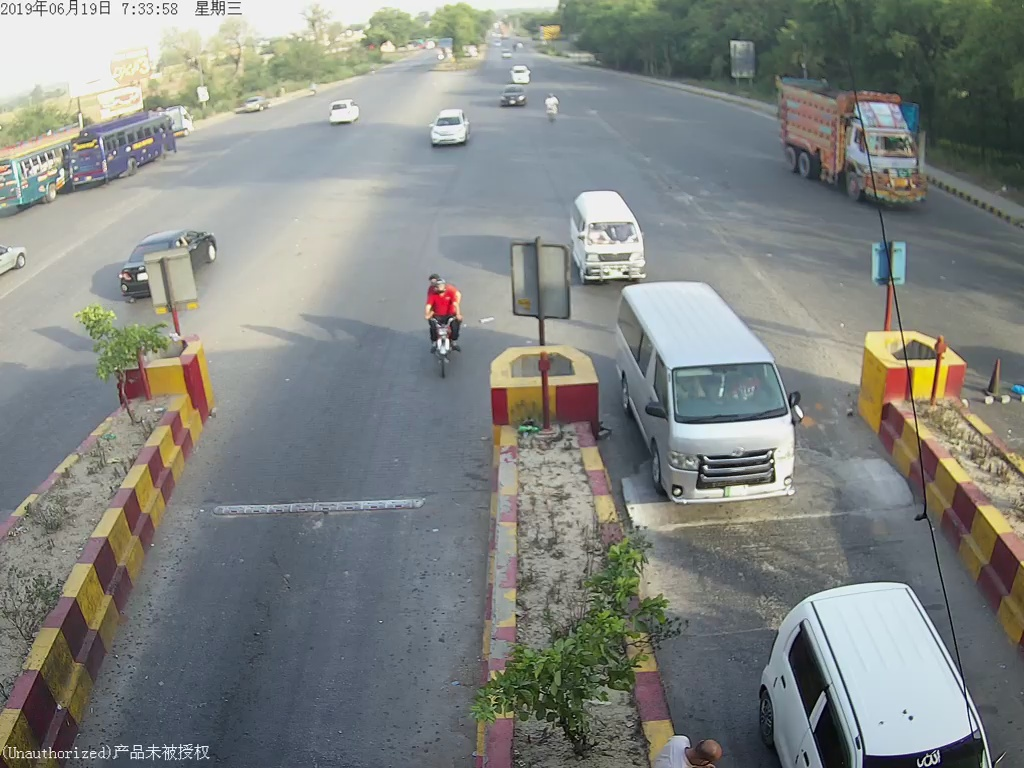Cat-1: (568, 191, 651, 271)
Cat-2: (626, 290, 812, 515)
